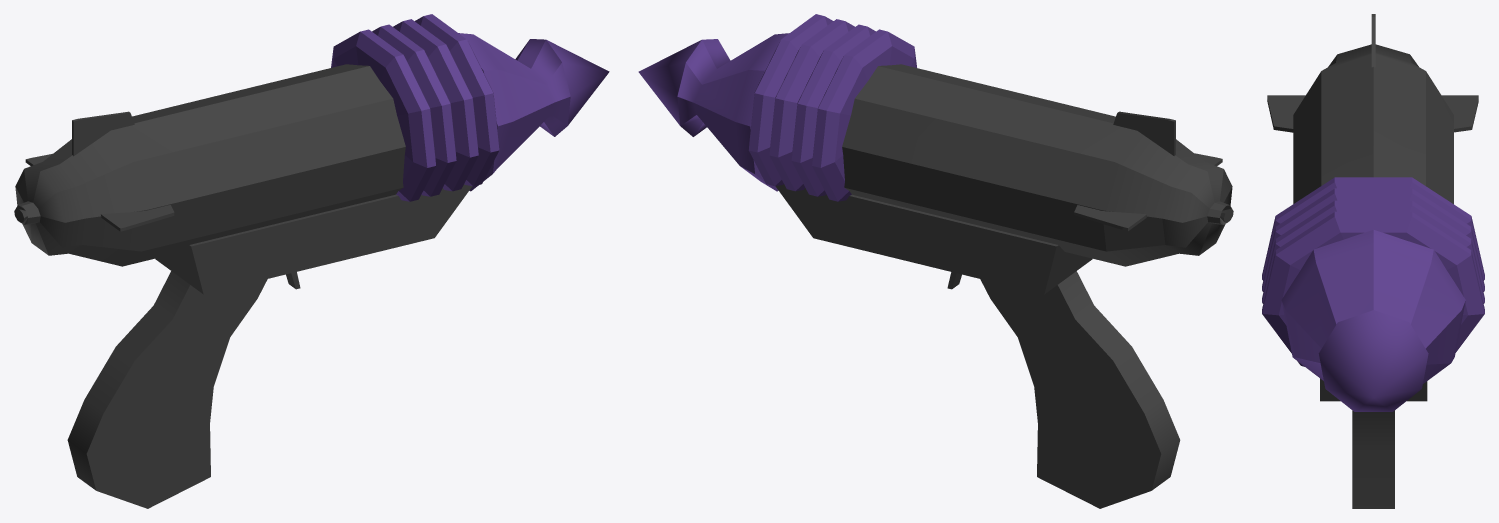
The model's file is pistola.fbx.
3 views of the same model, side by side, from view 1: azimuth 30°, elevation 25°; view 2: azimuth 150°, elevation 25°; view 3: azimuth 270°, elevation 25° (orthographic). The views are drawn at different scales.
Visible parts, largest first — view 1: Cuerpo, Mango, Base, Cañon, Decoracion, Decoracion2, Decoracion3, Decoracion1, Mirilla, Mirilla1; view 2: Cuerpo, Mango, Base, Cañon, Decoracion, Decoracion2, Decoracion3, Decoracion1, Mirilla, Mirilla2; view 3: Cañon, Cuerpo, Decoracion3, Mango, Decoracion1, Decoracion2, Decoracion, Mirilla1, Mirilla2, Base, Mirilla.
Boxes of the visible parts, x1=… form: Cuerpo: x1=14, y1=64, x2=405, y2=266; Mango: x1=67, y1=271, x2=267, y2=508; Base: x1=155, y1=184, x2=472, y2=294; Cañon: x1=458, y1=33, x2=609, y2=191; Decoracion: x1=331, y1=29, x2=435, y2=201; Decoracion2: x1=393, y1=19, x2=478, y2=191; Decoracion3: x1=415, y1=14, x2=499, y2=186; Decoracion1: x1=372, y1=24, x2=456, y2=196; Mirilla: x1=72, y1=111, x2=134, y2=156; Mirilla1: x1=100, y1=205, x2=174, y2=231; Cuerpo: x1=842, y1=64, x2=1233, y2=266; Mango: x1=980, y1=271, x2=1180, y2=508; Base: x1=775, y1=184, x2=1092, y2=294; Cañon: x1=638, y1=33, x2=789, y2=191; Decoracion: x1=812, y1=29, x2=916, y2=201; Decoracion2: x1=769, y1=19, x2=854, y2=191; Decoracion3: x1=748, y1=14, x2=833, y2=186; Decoracion1: x1=791, y1=24, x2=875, y2=196; Mirilla: x1=1113, y1=111, x2=1175, y2=155; Mirilla2: x1=1074, y1=205, x2=1146, y2=231; Cañon: x1=1281, y1=229, x2=1465, y2=411; Cuerpo: x1=1293, y1=44, x2=1453, y2=203; Decoracion3: x1=1262, y1=211, x2=1484, y2=366; Mango: x1=1352, y1=410, x2=1394, y2=508; Decoracion1: x1=1262, y1=188, x2=1484, y2=291; Decoracion2: x1=1262, y1=200, x2=1484, y2=303; Decoracion: x1=1262, y1=177, x2=1484, y2=280; Mirilla1: x1=1267, y1=95, x2=1305, y2=132; Mirilla2: x1=1441, y1=95, x2=1478, y2=132; Base: x1=1320, y1=378, x2=1427, y2=401; Mirilla: x1=1371, y1=14, x2=1375, y2=67.
Size of the model in its own units: 6.03 by 3.9 by 1.76.
